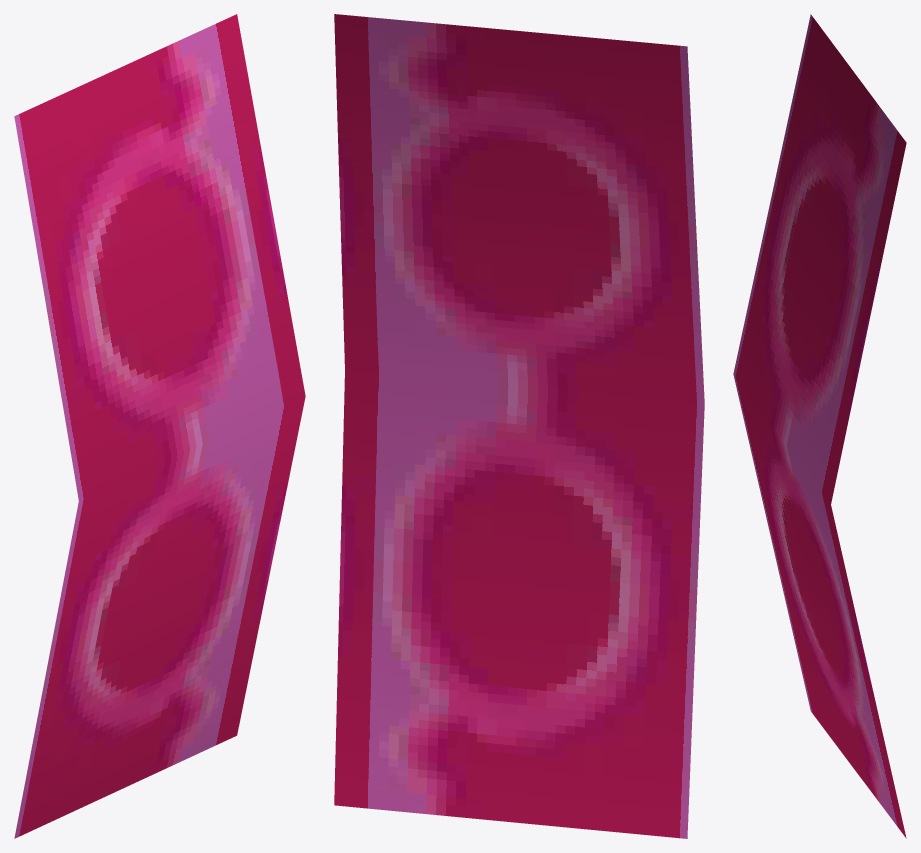
Rendered from acc_glass_pnk.dae.
3 renders of one model, left to right at view 1: azimuth 30°, elevation 25°; view 2: azimuth 150°, elevation 25°; view 3: azimuth 270°, elevation 25°, orthographic. The views are drawn at different scales.
Parts seen in each view (by area): view 1: acc_glass_pnk; view 2: acc_glass_pnk; view 3: acc_glass_pnk.
Boxes of the visible parts, x1,y1,x2,y2 form: acc_glass_pnk: (14, 14, 305, 838); acc_glass_pnk: (334, 14, 704, 838); acc_glass_pnk: (733, 14, 906, 838).
Size of the model in its own units: 8.81 by 20.16 by 4.54.
1 material, 1 textured.
